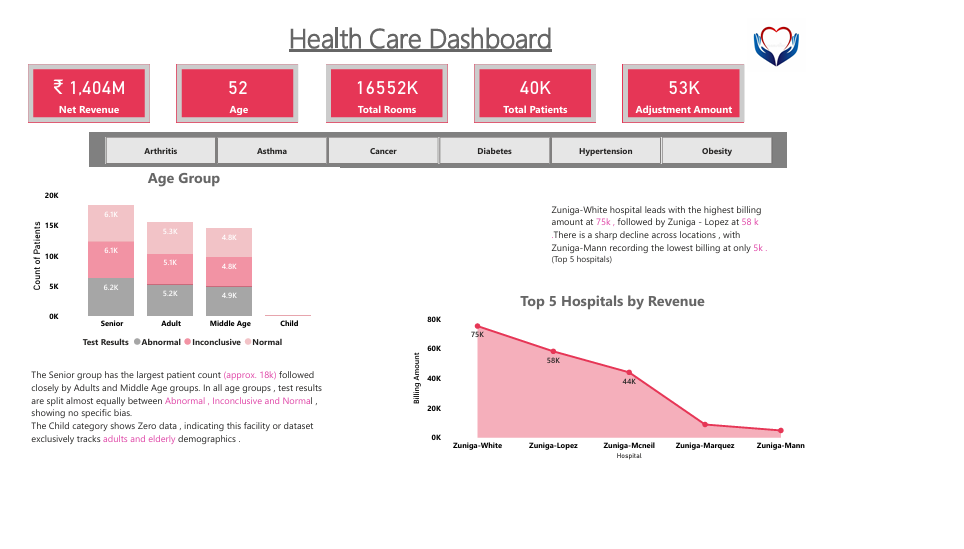

The dashboard page shown, as its layout file describes it:
{"tool":"powerbi","page":{"name":"Healthcare3","canvas":[1280,720],"ordinal":2},"visuals":[{"type":"textbox","box":[381.3,0,522.4,94.1],"z":0},{"type":"image","box":[1137.2,0,142.8,94.1],"z":1000},{"type":"card","fields":{"Values":["healthcare_dataset.Net Revenue"]},"box":[20.2,77.3,193.2,92.4],"z":2000},{"type":"card","fields":{"Values":["Sum(healthcare_dataset.Room Number)"]},"box":[492.2,77.3,193.2,92.4],"z":3000},{"type":"card","fields":{"Values":["Avg(healthcare_dataset.Age)"]},"box":[256.2,77.3,193.2,92.4],"z":4000},{"type":"card","fields":{"Values":["healthcare_dataset.Total Patients"]},"box":[728.2,77.3,193.2,92.4],"z":5000},{"type":"card","fields":{"Values":["healthcare_dataset.Adjustment Amount"]},"box":[964.2,77.3,193.2,92.4],"z":6000},{"type":"slicer","fields":{"Values":["healthcare_dataset.Medical Condition"]},"box":[117.1,185.9,1107.8,55.6],"z":7000},{"type":"columnChart","title":"Age Group ","fields":{"Category":["healthcare_dataset.Age Group"],"Series":["healthcare_dataset.Test Results"],"Y":["Count(healthcare_dataset.Name)"]},"box":[20.5,241.5,494.6,294.1],"z":7000,"group":"g1"},{"type":"stackedAreaChart","title":"Top 5 Hospitals by Revenue ","fields":{"Category":["healthcare_dataset.Hospital"],"Y":["Sum(healthcare_dataset.Billing Amount)"]},"box":[627.8,436.1,641,270.7],"z":8000,"group":"g2"},{"type":"group","id":"g1","title":"Group 1","box":[20.5,241.5,494.6,449.3],"z":9000},{"type":"group","id":"g2","title":"Group 2","box":[627.8,290.9,641,415.9],"z":10000},{"type":"textbox","box":[20.5,554.7,494.6,136.1],"z":10001,"group":"g1"},{"type":"textbox","box":[846.1,290.9,360,109.8],"z":10003,"group":"g2"}]}

Visuals, with their boxes in screenshot pixels (x1, y1, x2, y2), scaled from the page's 1280x720 canvas onto the 964x549 screenshot:
textbox: 287 0 681 72
image: 856 0 963 72
card - healthcare_dataset.Net Revenue: 15 59 161 129
card - Sum(healthcare_dataset.Room Number): 371 59 516 129
card - Avg(healthcare_dataset.Age): 193 59 338 129
card - healthcare_dataset.Total Patients: 548 59 694 129
card - healthcare_dataset.Adjustment Amount: 726 59 872 129
slicer - healthcare_dataset.Medical Condition: 88 142 923 184
"Age Group " columnChart: 15 184 388 408
"Top 5 Hospitals by Revenue " stackedAreaChart: 473 333 956 539
"Group 1" group: 15 184 388 527
"Group 2" group: 473 222 956 539
textbox: 15 423 388 527
textbox: 637 222 908 306
